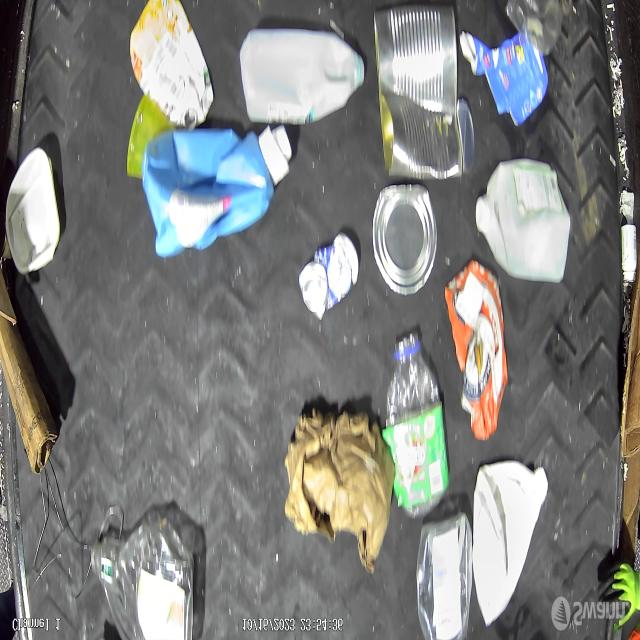can: (380, 71, 470, 181), (376, 3, 458, 116), (372, 184, 438, 296), (296, 230, 359, 323)
milk_jug: (472, 459, 548, 628), (238, 27, 368, 125), (475, 157, 571, 285)
non_white_jug: (142, 121, 286, 259), (130, 0, 215, 129)
plastic_bottle: (98, 520, 200, 638), (387, 332, 450, 515)
